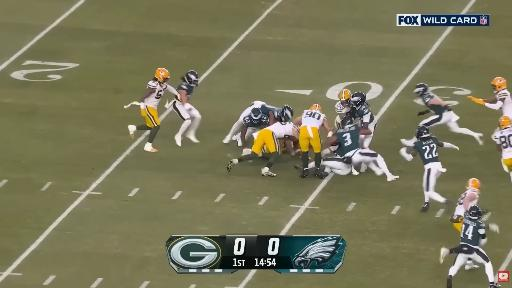Helmet: (183, 71, 199, 86), (351, 92, 366, 107), (155, 68, 169, 83), (492, 77, 506, 92), (339, 89, 351, 106), (467, 206, 482, 219), (414, 83, 429, 96), (416, 126, 430, 139), (282, 105, 293, 121), (250, 108, 262, 122), (499, 116, 511, 129), (467, 178, 480, 189), (342, 115, 353, 127), (310, 104, 321, 112)
Jersey: (461, 217, 485, 247), (454, 188, 479, 216), (144, 79, 167, 109), (336, 125, 359, 155), (414, 137, 438, 165), (493, 128, 511, 158), (421, 93, 445, 115), (264, 122, 296, 138), (352, 103, 374, 123), (496, 89, 511, 117), (302, 111, 325, 128), (261, 105, 281, 121), (243, 115, 269, 127), (176, 82, 194, 99), (335, 101, 351, 114)
Player: (400, 126, 458, 211), (440, 206, 500, 287), (227, 111, 298, 176), (328, 116, 398, 181), (414, 84, 483, 145), (128, 68, 178, 152), (294, 104, 330, 178), (166, 71, 201, 146), (223, 101, 265, 143), (468, 77, 511, 117), (468, 77, 511, 116), (451, 179, 480, 233), (351, 92, 376, 148), (240, 107, 269, 155), (494, 116, 511, 180), (260, 104, 293, 124), (335, 89, 351, 129)
